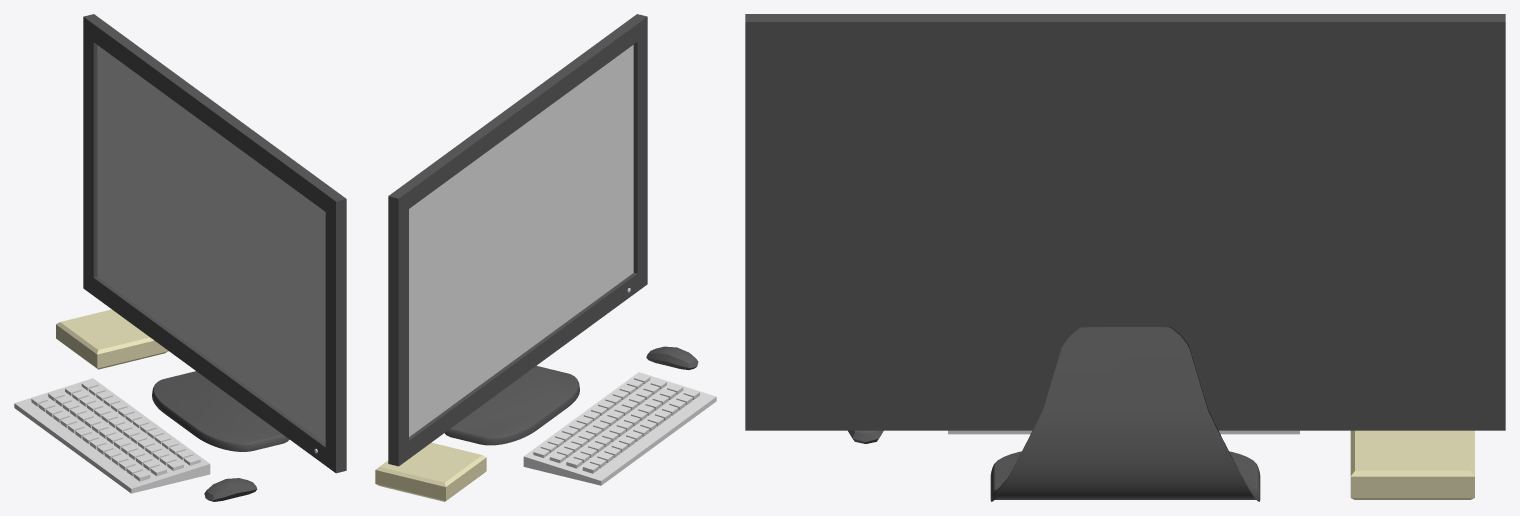
The picture shows the model from 3 angles, left to right: view 1: azimuth 30°, elevation 25°; view 2: azimuth 150°, elevation 25°; view 3: azimuth 270°, elevation 25°; orthographic projection. The views are drawn at different scales.
Parts seen in each view (by area): view 1: monitor_v2, monitor, base_monitor, base_teclado, MacMini, tecla.003, tecla.002, tecla.001, tecla, Mouse; view 2: monitor_v2, monitor, base_monitor, base_teclado, MacMini, tecla.003, tecla.002, tecla.001, tecla, Mouse; view 3: monitor, base_monitor, MacMini, base_teclado.
Part boxes in pixels (left/top/right/bottom): monitor_v2: left=97, top=45, right=325, bottom=443; monitor: left=83, top=14, right=346, bottom=473; base_monitor: left=152, top=371, right=289, bottom=451; base_teclado: left=14, top=378, right=210, bottom=493; MacMini: left=56, top=309, right=168, bottom=369; tecla.003: left=31, top=395, right=150, bottom=481; tecla.002: left=48, top=390, right=167, bottom=476; tecla.001: left=65, top=385, right=183, bottom=470; tecla: left=81, top=380, right=200, bottom=465; Mouse: left=204, top=478, right=257, bottom=501; monitor_v2: left=409, top=45, right=633, bottom=436; monitor: left=388, top=14, right=647, bottom=466; base_monitor: left=445, top=365, right=579, bottom=445; base_teclado: left=523, top=372, right=716, bottom=485; MacMini: left=375, top=442, right=486, bottom=501; tecla.003: left=582, top=389, right=699, bottom=473; tecla.002: left=566, top=384, right=683, bottom=468; tecla.001: left=549, top=379, right=666, bottom=463; tecla: left=533, top=374, right=650, bottom=457; Mouse: left=646, top=346, right=698, bottom=369; monitor: left=745, top=14, right=1505, bottom=430; base_monitor: left=990, top=325, right=1260, bottom=501; MacMini: left=1350, top=430, right=1474, bottom=499; base_teclado: left=948, top=430, right=1299, bottom=434.
Size of the model in its own units: 85.67 by 141 by 209.
